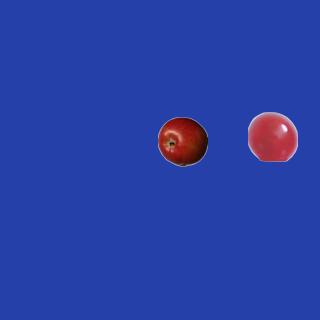Apple Braeburn: (157, 116, 207, 166)
Redcurrant: (247, 111, 297, 161)
